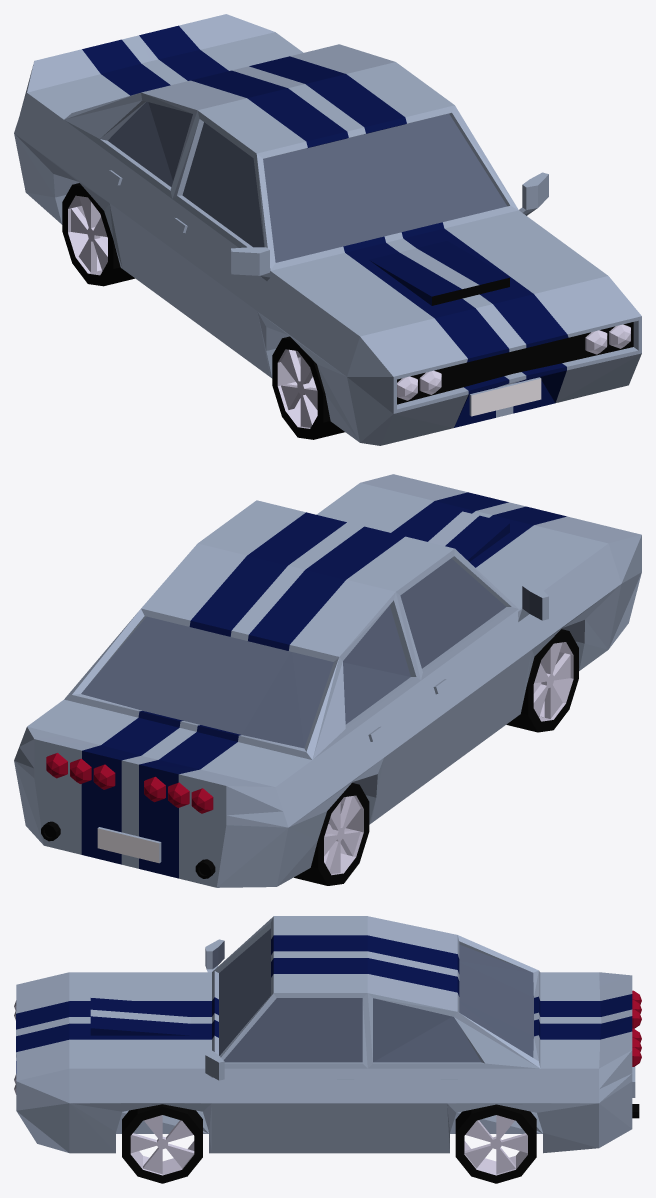
File: hypercar.glb
The picture shows the model from 3 angles, top to bottom: view 1: azimuth 30°, elevation 25°; view 2: azimuth 150°, elevation 25°; view 3: azimuth 270°, elevation 25°; orthographic projection. The views are drawn at different scales.
Parts seen in each view (by area): view 1: Muscle 2_body grey_0, Muscle 2_windows_0, Muscle 2_body dark blue_0, Muscle 2_tires_0, Muscle 2 wheel front right_wheels_0, Muscle 2 wheel rear right_wheels_0, Muscle 2 wheel front right_tires_0, Muscle 2 wheel rear right_tires_0, Muscle 2_headlights_0, Muscle 2_body white_0; view 2: Muscle 2_body grey_0, Muscle 2_windows_0, Muscle 2_body dark blue_0, Muscle 2_rear lights_0, Muscle 2 wheel front right_wheels_0, Muscle 2 wheel rear right_wheels_0, Muscle 2 wheel front right_tires_0, Muscle 2 wheel rear right_tires_0, Muscle 2_body white_0, Muscle 2_tires_0; view 3: Muscle 2_body grey_0, Muscle 2_windows_0, Muscle 2_body dark blue_0, Muscle 2 wheel rear left_tires_0, Muscle 2 wheel front left_tires_0, Muscle 2 wheel front left_wheels_0, Muscle 2 wheel rear left_wheels_0, Muscle 2_rear lights_0.
Boxes of the visible parts, left/top/right/bottom form: Muscle 2_body grey_0: left=14, top=14, right=641, bottom=445; Muscle 2_windows_0: left=108, top=101, right=507, bottom=262; Muscle 2_body dark blue_0: left=82, top=25, right=568, bottom=427; Muscle 2_tires_0: left=397, top=277, right=633, bottom=404; Muscle 2 wheel front right_wheels_0: left=277, top=349, right=317, bottom=428; Muscle 2 wheel rear right_wheels_0: left=68, top=195, right=107, bottom=275; Muscle 2 wheel front right_tires_0: left=272, top=336, right=344, bottom=439; Muscle 2 wheel rear right_tires_0: left=62, top=183, right=134, bottom=286; Muscle 2_headlights_0: left=397, top=324, right=630, bottom=400; Muscle 2_body white_0: left=471, top=378, right=541, bottom=416; Muscle 2_body grey_0: left=14, top=474, right=641, bottom=887; Muscle 2_windows_0: left=81, top=558, right=542, bottom=748; Muscle 2_body dark blue_0: left=81, top=492, right=566, bottom=878; Muscle 2_rear lights_0: left=46, top=753, right=213, bottom=813; Muscle 2 wheel front right_wheels_0: left=533, top=642, right=573, bottom=721; Muscle 2 wheel rear right_wheels_0: left=324, top=795, right=363, bottom=875; Muscle 2 wheel front right_tires_0: left=506, top=629, right=578, bottom=732; Muscle 2 wheel rear right_tires_0: left=294, top=783, right=369, bottom=885; Muscle 2_body white_0: left=97, top=828, right=159, bottom=862; Muscle 2_tires_0: left=41, top=821, right=215, bottom=878; Muscle 2_body grey_0: left=16, top=916, right=635, bottom=1153; Muscle 2_windows_0: left=212, top=928, right=533, bottom=1062; Muscle 2_body dark blue_0: left=16, top=935, right=632, bottom=1073; Muscle 2 wheel rear left_tires_0: left=455, top=1104, right=536, bottom=1183; Muscle 2 wheel front left_tires_0: left=122, top=1104, right=202, bottom=1183; Muscle 2 wheel front left_wheels_0: left=130, top=1115, right=194, bottom=1175; Muscle 2 wheel rear left_wheels_0: left=464, top=1115, right=527, bottom=1175; Muscle 2_rear lights_0: left=632, top=990, right=641, bottom=1066.
Bounding box in the file's own units: 2.81 × 1.91 × 6.06.
